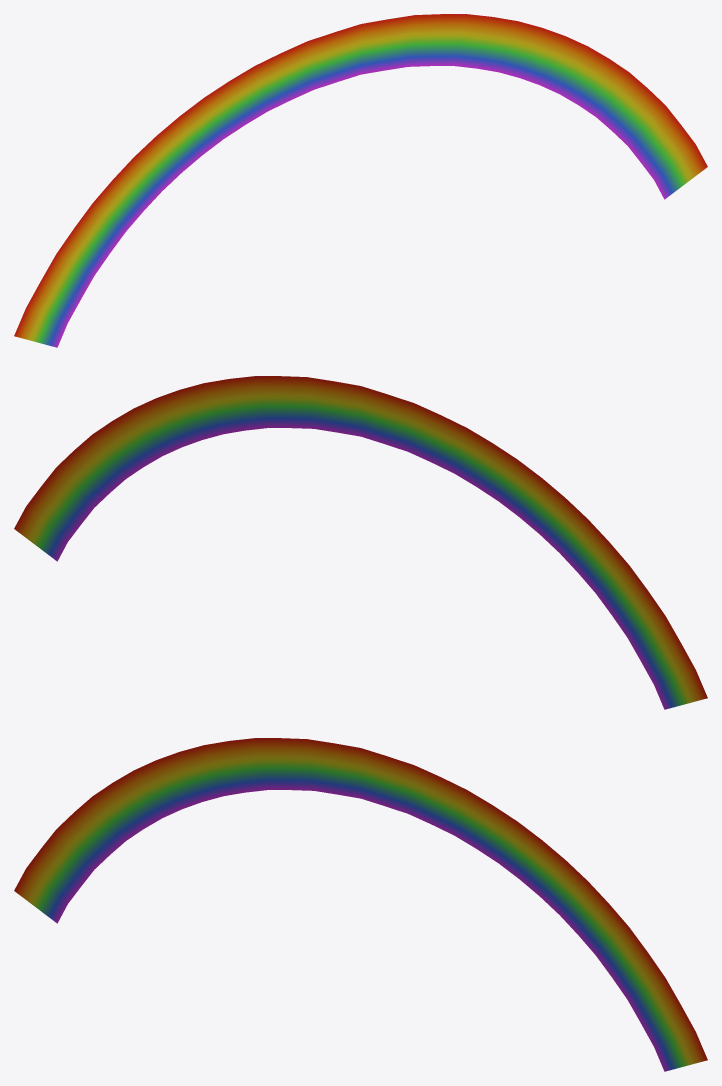
Rendered from rainbow.obj.
3 renders of one model, top to bottom at view 1: azimuth 30°, elevation 25°; view 2: azimuth 150°, elevation 25°; view 3: azimuth 330°, elevation 25°, orthographic.
Visible parts, largest first — view 1: Rainbow_Plane.002; view 2: Rainbow_Plane.002; view 3: Rainbow_Plane.002.
Boxes of the visible parts, x1,y1,x2,y2 form: Rainbow_Plane.002: (14, 14, 707, 347); Rainbow_Plane.002: (14, 376, 707, 709); Rainbow_Plane.002: (14, 738, 707, 1071).
Size of the model in its own units: 28.68 by 9.86 by 2e-06.
Materials: 1 (1 with a texture image).
